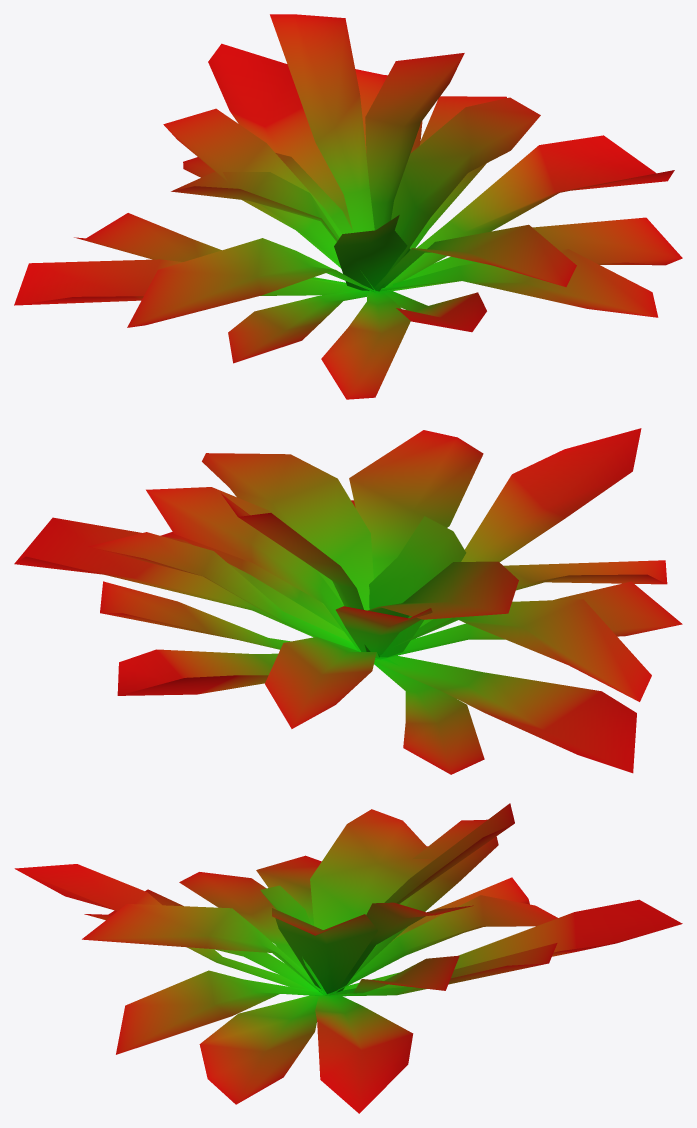
The model's file is Var30_LOD1.fbx.
3 views of the same model, one above another, from view 1: azimuth 30°, elevation 25°; view 2: azimuth 150°, elevation 25°; view 3: azimuth 270°, elevation 25° (orthographic). The views are drawn at different scales.
Parts seen in each view (by area): view 1: _irnm_Var30_LOD1; view 2: _irnm_Var30_LOD1; view 3: _irnm_Var30_LOD1.
Part boxes in pixels (bbox=[...]): _irnm_Var30_LOD1: bbox=[14, 14, 682, 399]; _irnm_Var30_LOD1: bbox=[14, 428, 682, 774]; _irnm_Var30_LOD1: bbox=[14, 803, 682, 1113].
Bounding box in the file's own units: 20.13 × 6.62 × 20.84.
